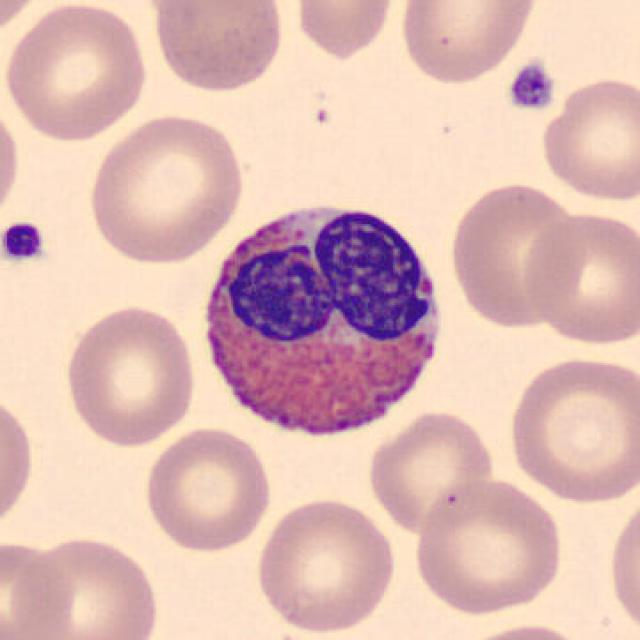Eosinophil: (190, 187, 459, 457)
Platelets: (505, 58, 558, 115), (0, 217, 50, 268)
RBC: (84, 106, 247, 266), (409, 474, 567, 617), (446, 178, 587, 332), (0, 0, 151, 143), (251, 494, 400, 636), (503, 353, 638, 506), (61, 302, 199, 449), (138, 424, 276, 556), (364, 406, 498, 538), (7, 532, 164, 640), (519, 208, 637, 349), (146, 0, 288, 95), (537, 72, 638, 204), (396, 0, 540, 86), (0, 537, 78, 640), (288, 0, 398, 62), (0, 386, 37, 543), (604, 492, 640, 638), (0, 95, 23, 229), (448, 620, 594, 640), (0, 0, 53, 44)
